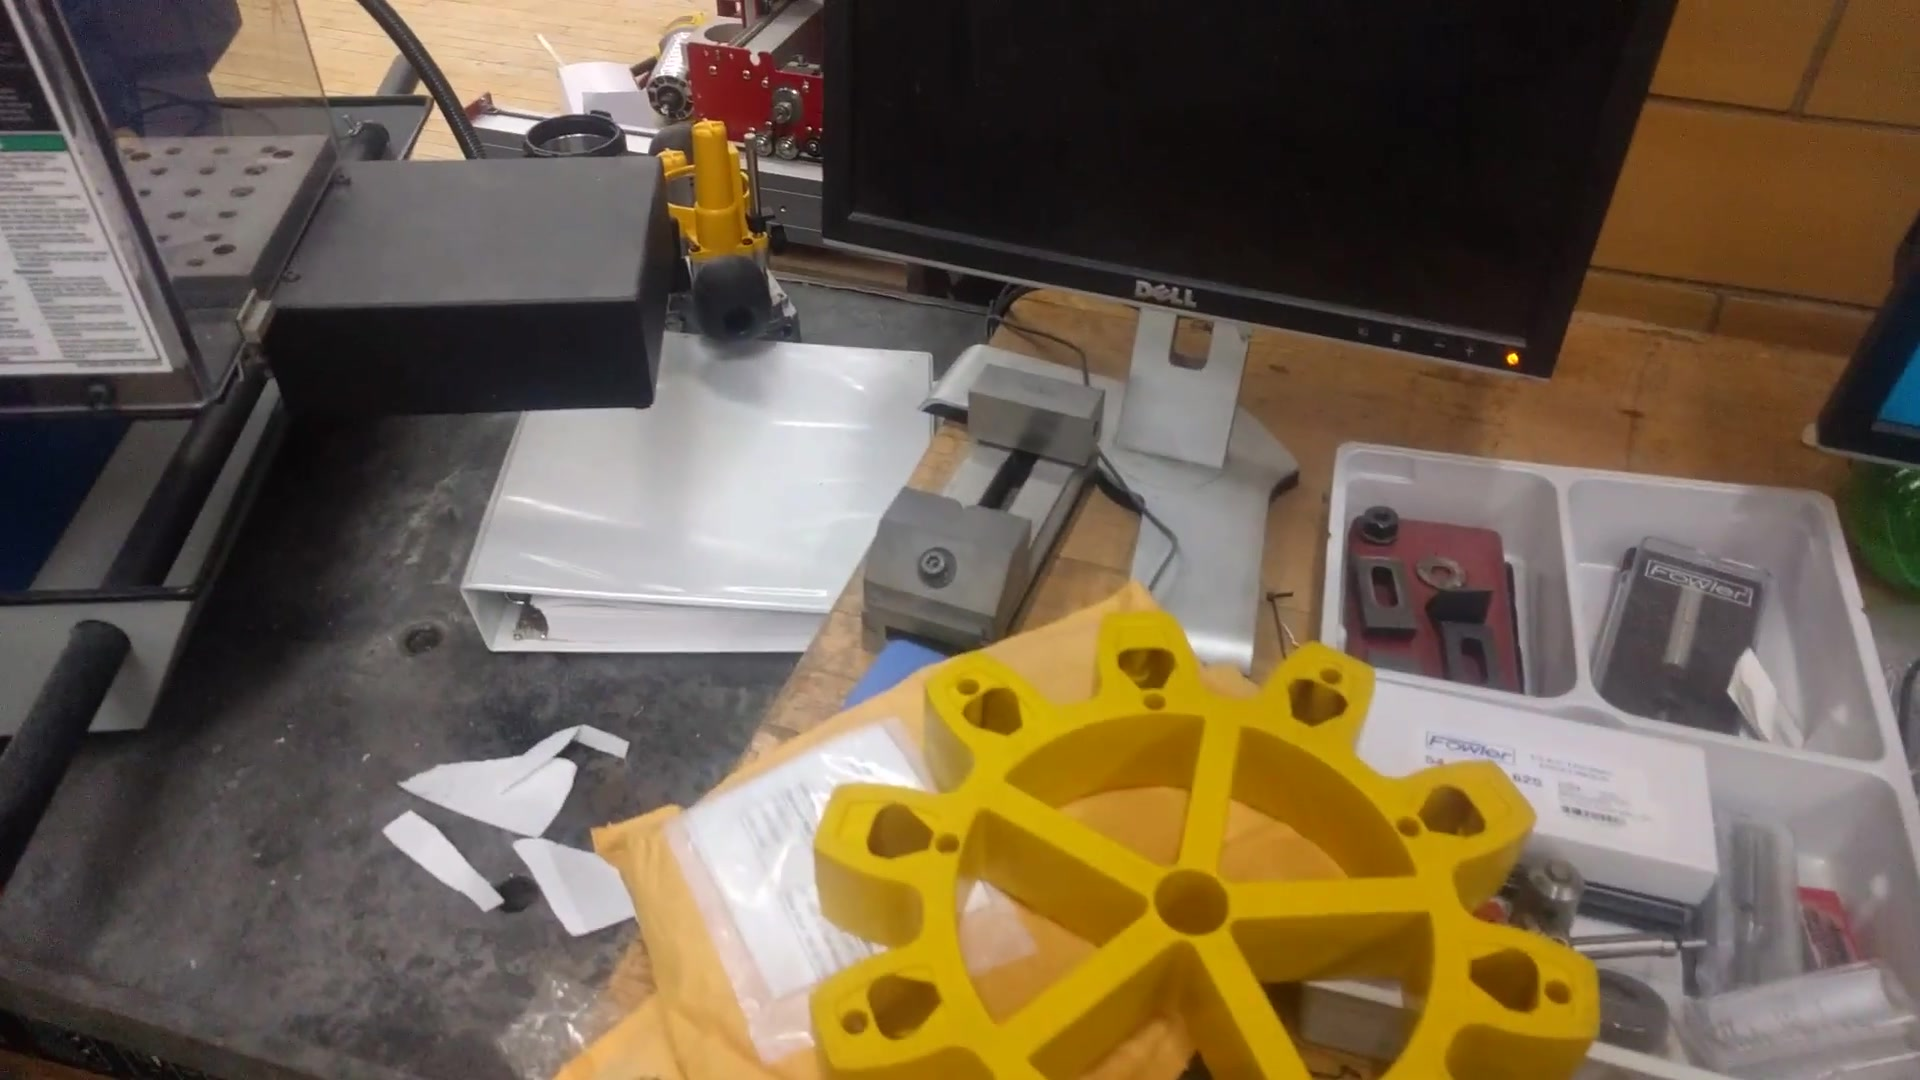gear: (811, 591, 1607, 1080)
